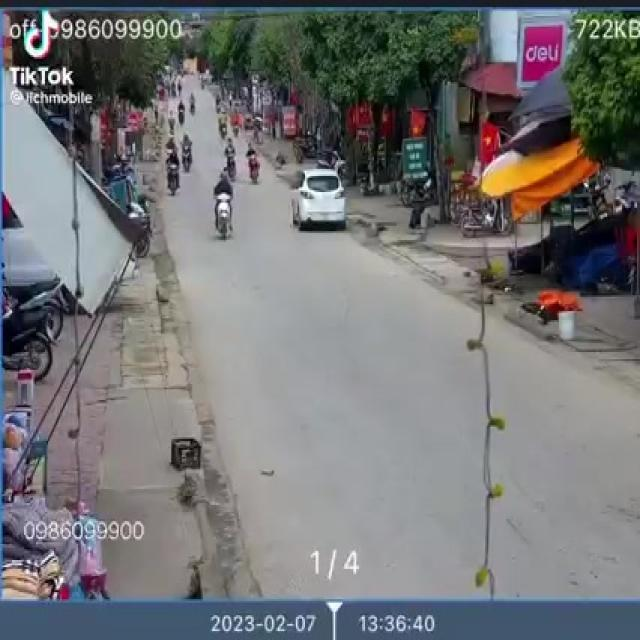normal: (284, 154, 356, 239), (200, 166, 246, 249), (154, 114, 190, 196)
